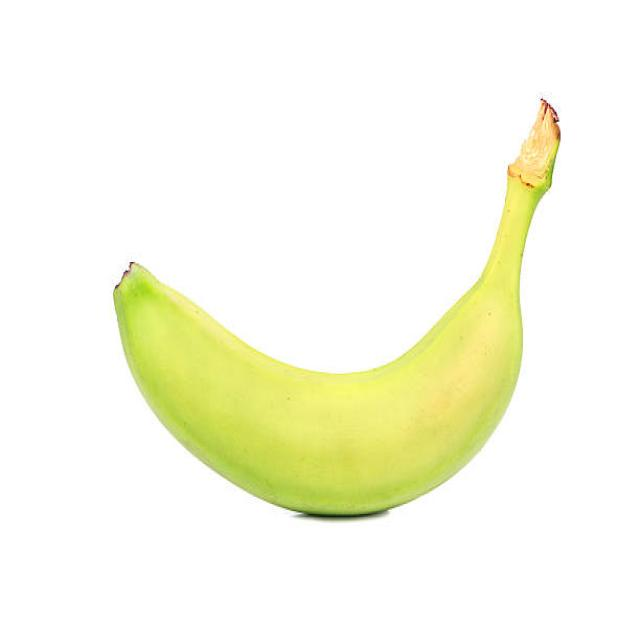banana: (111, 95, 562, 519)
